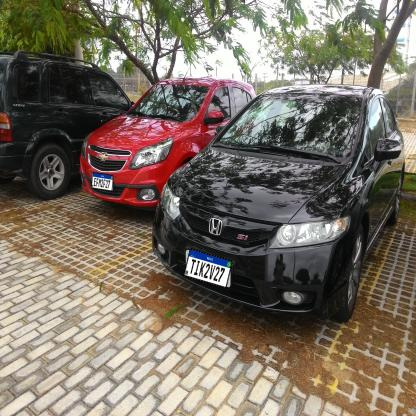PlacaM: (183, 248, 233, 289), (92, 172, 114, 191)
